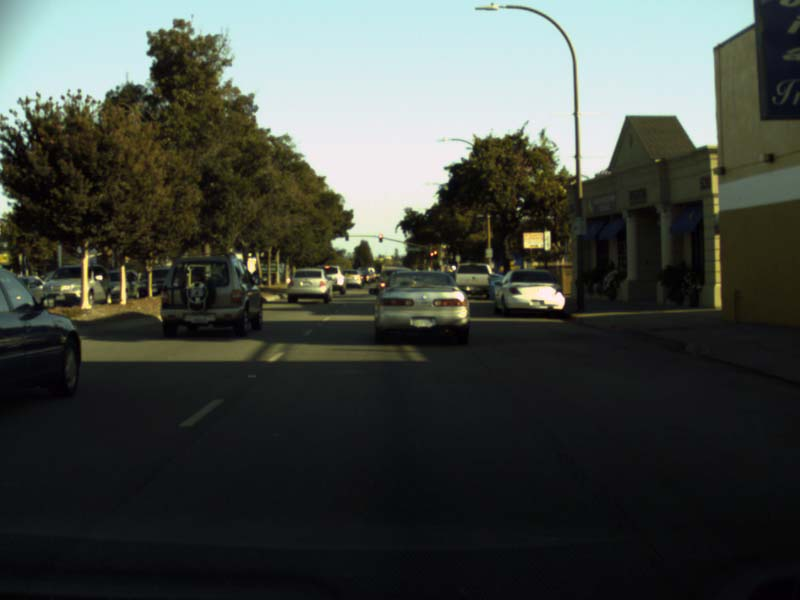Red: (429, 251, 434, 258), (378, 234, 382, 241), (434, 249, 437, 258), (345, 232, 348, 240)
